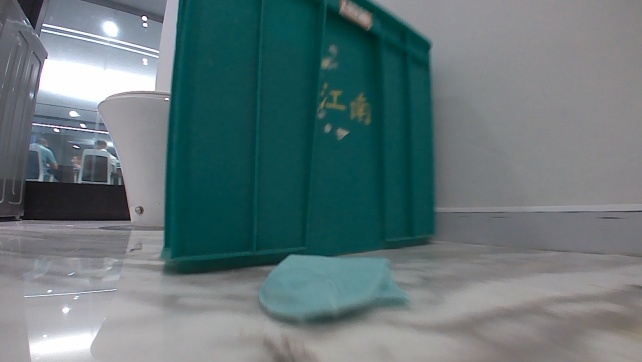socks: (253, 250, 410, 325)
toilet: (91, 87, 174, 230)
washing_machine1: (0, 0, 51, 224)
